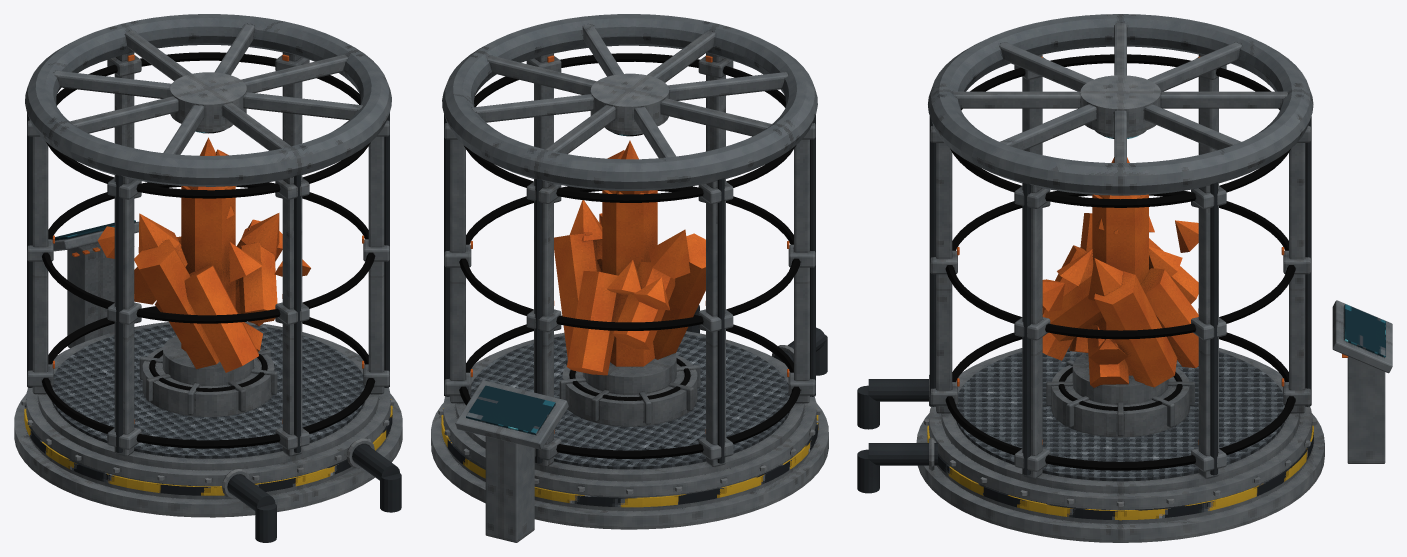
File: base_originium_chamber.glb
3 views of the same model, side by side, from view 1: azimuth 30°, elevation 25°; view 2: azimuth 150°, elevation 25°; view 3: azimuth 270°, elevation 25° (orthographic). The views are drawn at different scales.
Parts seen in each view (by area): view 1: base_originium_chamber.008; view 2: base_originium_chamber.008; view 3: base_originium_chamber.008.
Part boxes in pixels (x1,y1,x2,y2): base_originium_chamber.008: (14,14,402,542); base_originium_chamber.008: (431,14,828,542); base_originium_chamber.008: (857,14,1392,542).
Size of the model in its own units: 3.24 by 3.2 by 4.25.
7 materials, 7 textured.
